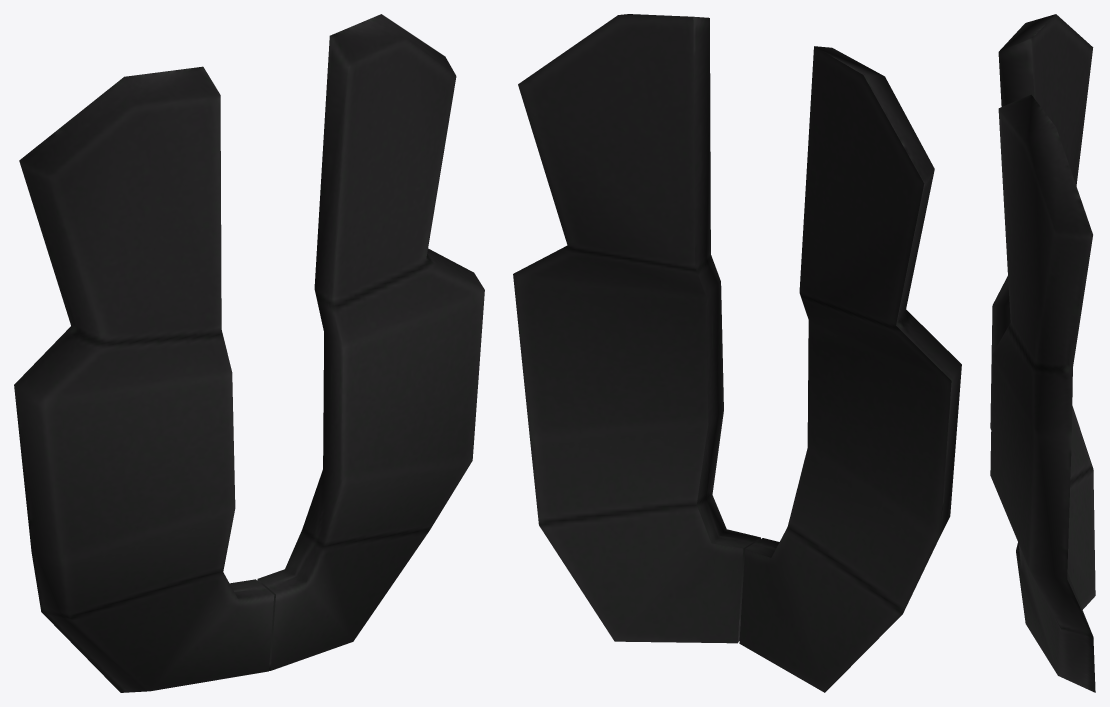
File: pinger_plate_motor_center.dae
3 renders of one model, left to right at view 1: azimuth 30°, elevation 25°; view 2: azimuth 150°, elevation 25°; view 3: azimuth 270°, elevation 25°, orthographic. The views are drawn at different scales.
Parts seen in each view (by area): view 1: pinger_plate_motor_center; view 2: pinger_plate_motor_center; view 3: pinger_plate_motor_center.
Part boxes in pixels (x1,y1,x2,y2): pinger_plate_motor_center: (14, 14, 484, 692); pinger_plate_motor_center: (513, 14, 961, 692); pinger_plate_motor_center: (990, 14, 1095, 692).
Bounding box in the file's own units: 0.8892 × 0.1953 × 1.18.
Materials: 1 (1 with a texture image).
